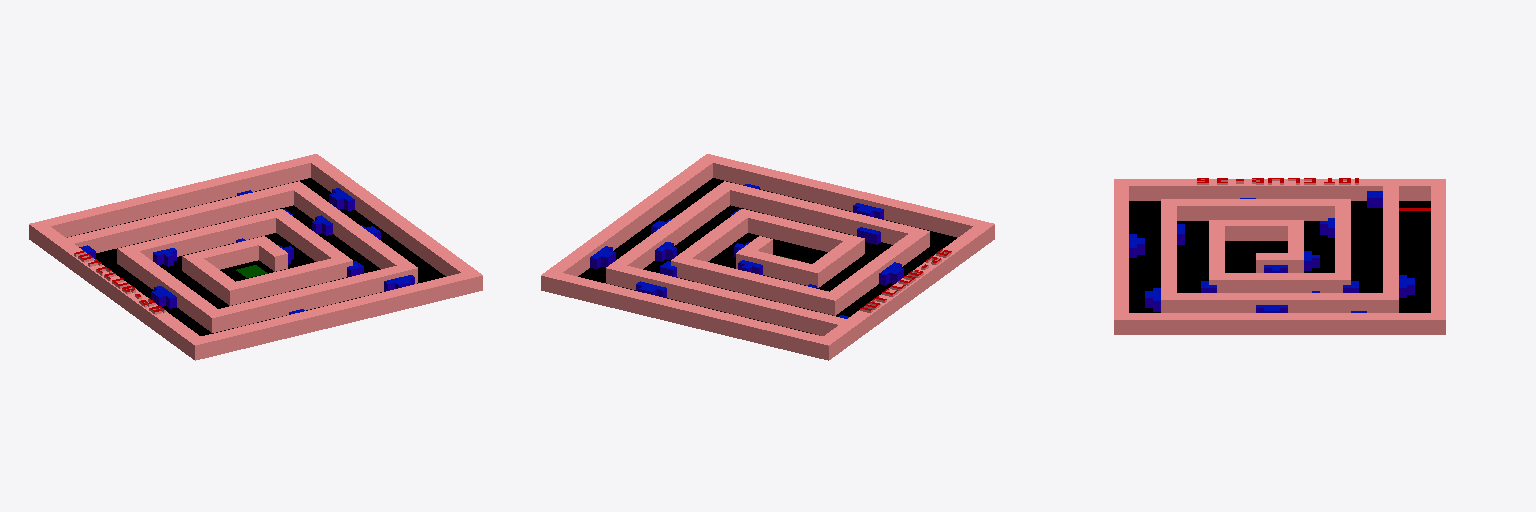
Rendered from iot.obj.
The picture shows the model from 3 angles: view 1: azimuth 30°, elevation 25°; view 2: azimuth 150°, elevation 25°; view 3: azimuth 270°, elevation 25°; orthographic projection.
Visible parts, largest first — view 1: Plane; view 2: Plane; view 3: Plane.
Part boxes in pixels (x1,y1,x2,y2): Plane: (29, 154, 482, 360); Plane: (541, 154, 994, 360); Plane: (1114, 178, 1445, 334).
Bounding box in the file's own units: 20 × 1.16 × 20.